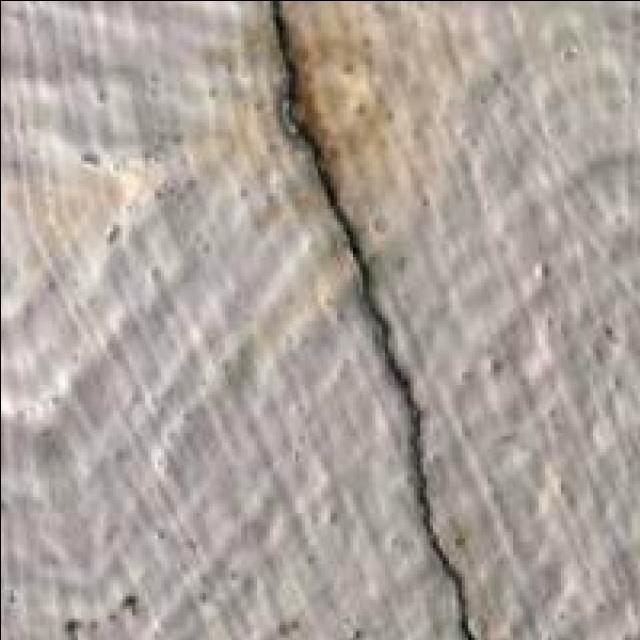SurfaceCrack: (224, 0, 478, 640)
